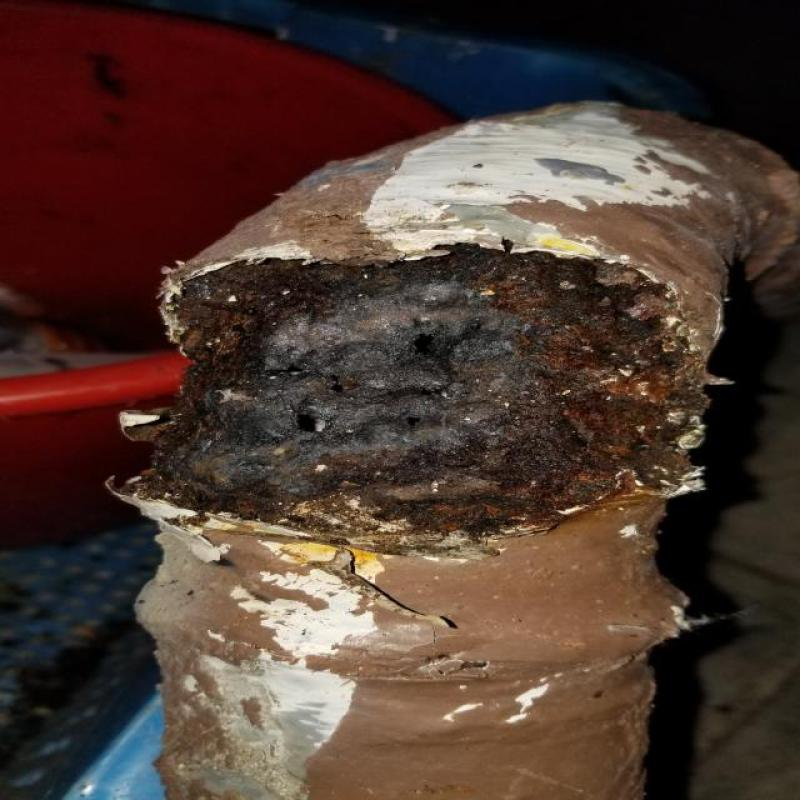corrosion: (120, 265, 685, 555)
